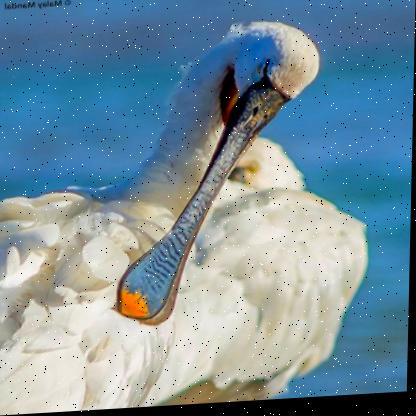Burung: (0, 20, 374, 415)
